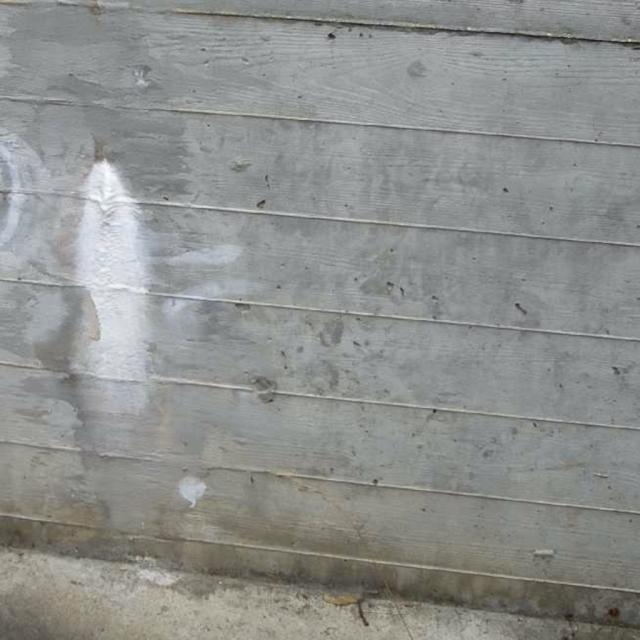D01: (74, 158, 152, 393)
